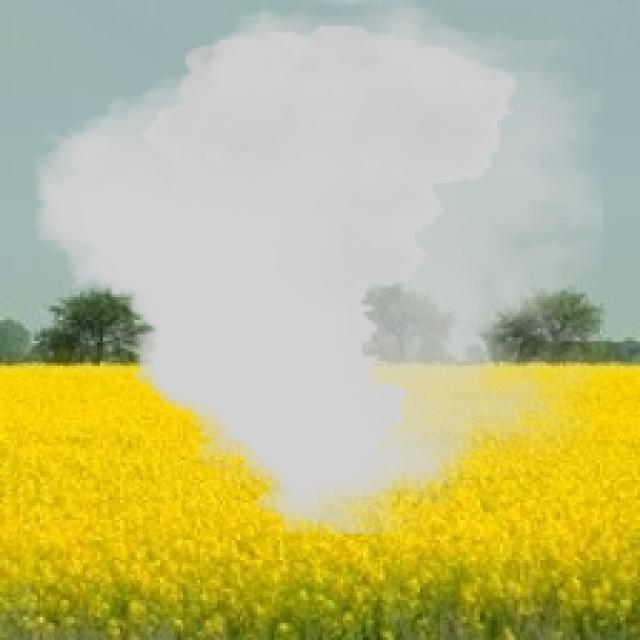smoke: (34, 0, 603, 535)
